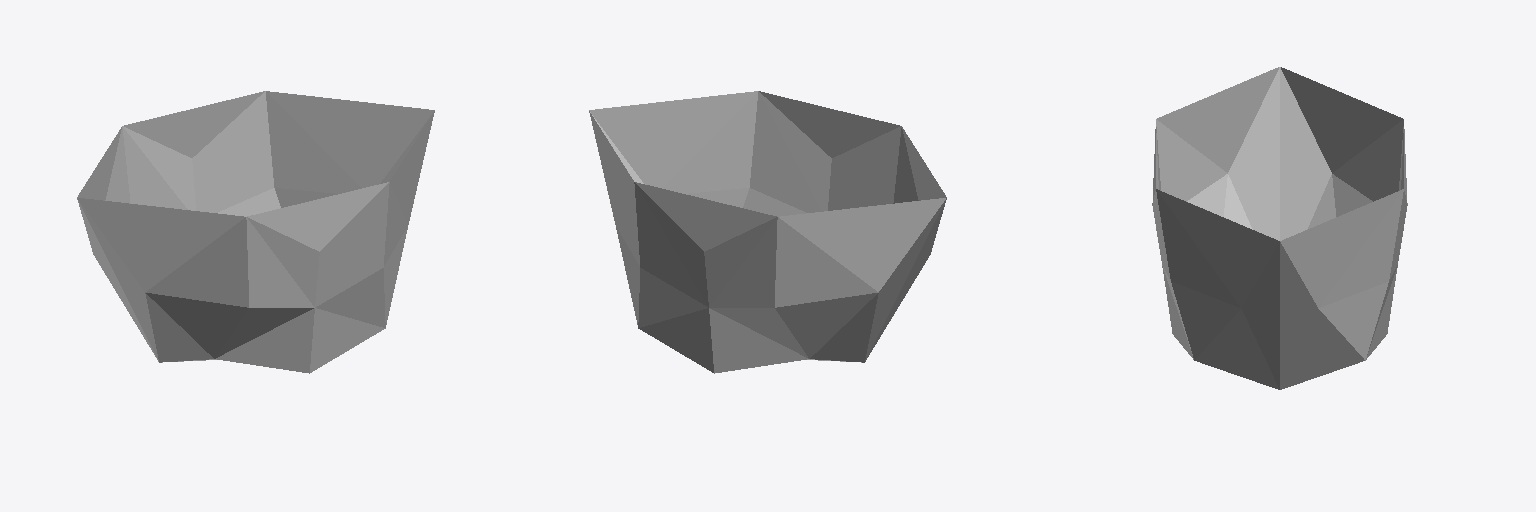
The model's file is rhodium_arm_gem.obj.
3 renders of one model, left to right at view 1: azimuth 30°, elevation 25°; view 2: azimuth 150°, elevation 25°; view 3: azimuth 270°, elevation 25°, orthographic.
Parts seen in each view (by area): view 1: RhodiumArmGem; view 2: RhodiumArmGem; view 3: RhodiumArmGem.
Boxes of the visible parts, x1=… form: RhodiumArmGem: x1=77, y1=91, x2=434, y2=373; RhodiumArmGem: x1=589, y1=91, x2=946, y2=373; RhodiumArmGem: x1=1152, y1=67, x2=1407, y2=389.
Bounding box in the file's own units: 2 × 1.09 × 1.23.